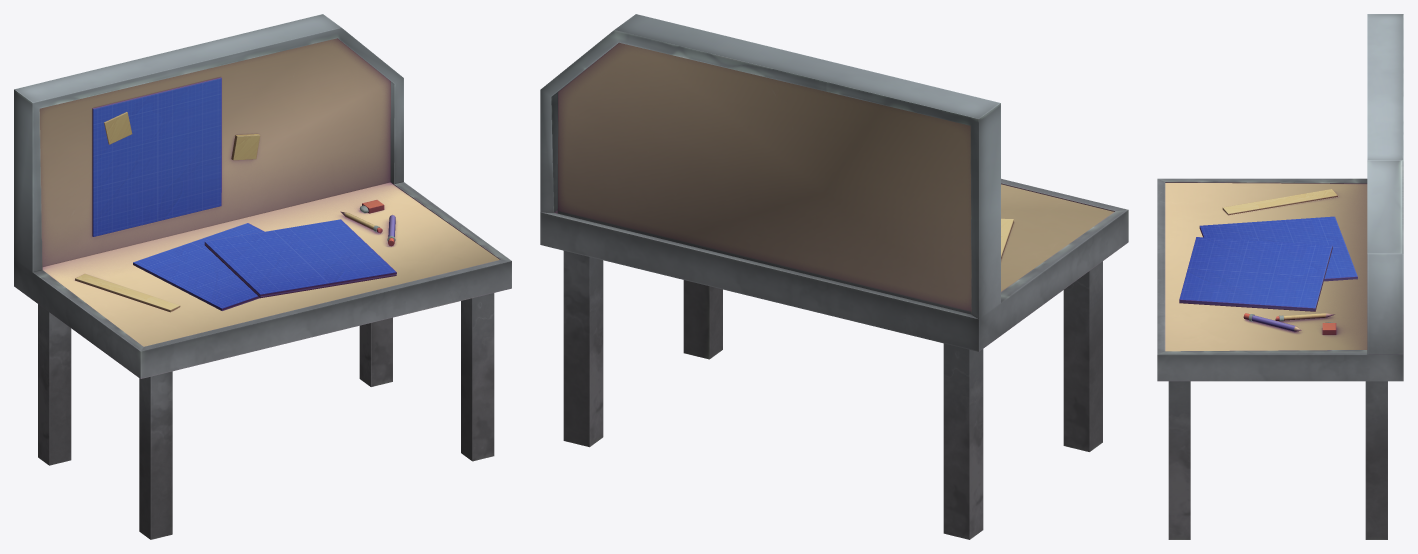
The model's file is MesaBluePrints.fbx.
3 views of the same model, side by side, from view 1: azimuth 30°, elevation 25°; view 2: azimuth 150°, elevation 25°; view 3: azimuth 270°, elevation 25° (orthographic). The views are drawn at different scales.
Visible parts, largest first — view 1: MesaBluePrints; view 2: MesaBluePrints; view 3: MesaBluePrints.
Part boxes in pixels (x1,y1,x2,y2): MesaBluePrints: (14,14,511,539); MesaBluePrints: (540,14,1128,539); MesaBluePrints: (1157,14,1403,539).
Bounding box in the file's own units: 1.49 × 1.41 × 0.8836.
